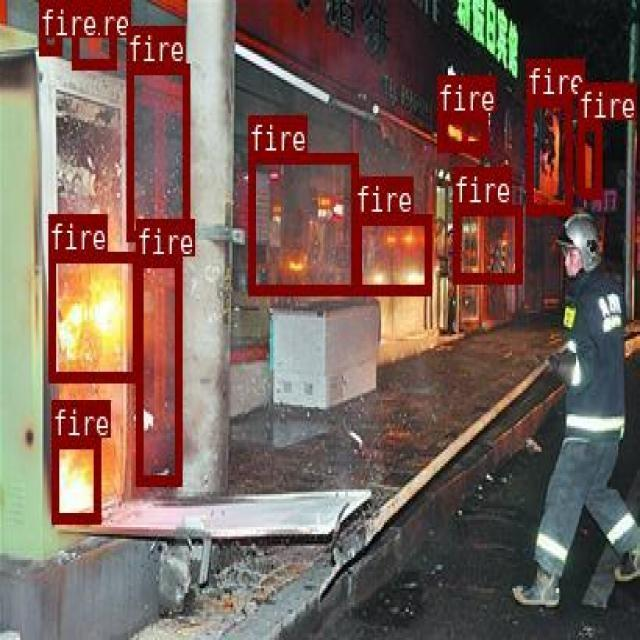fire: (247, 151, 357, 293), (47, 250, 137, 380), (125, 61, 189, 238), (135, 255, 181, 485), (354, 214, 430, 293), (453, 203, 521, 282), (526, 96, 571, 213), (50, 437, 100, 520), (72, 0, 114, 66), (436, 113, 487, 149), (577, 119, 600, 197), (38, 0, 60, 54)
